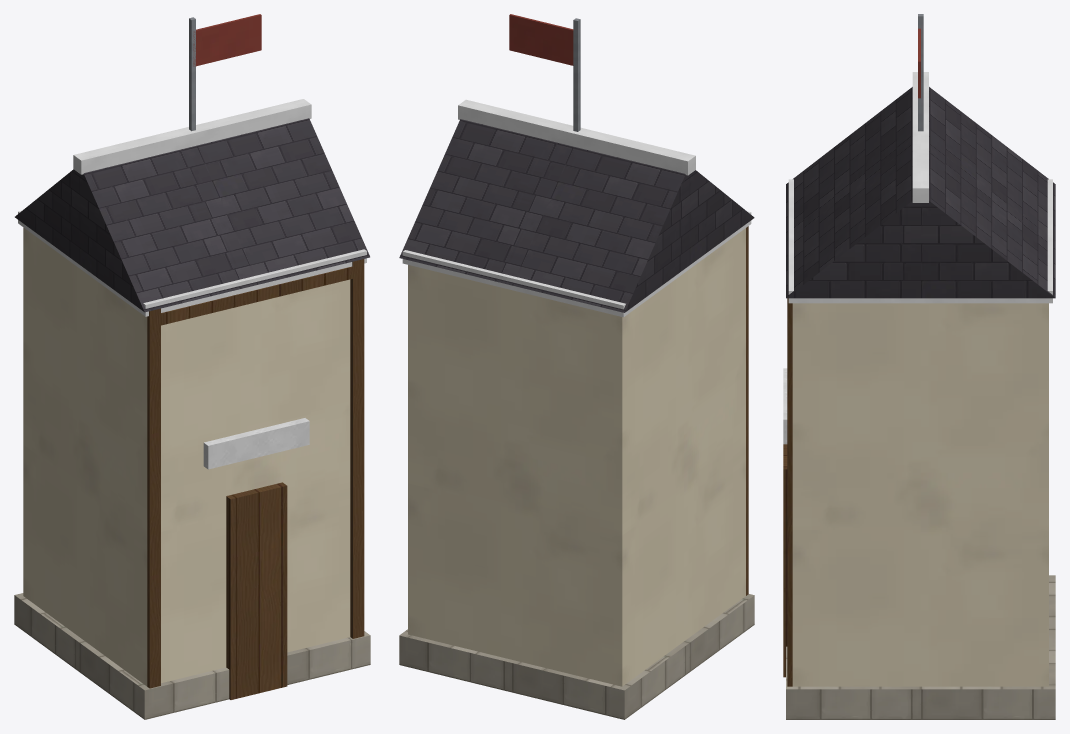
File: category.governance.t4.glb
The picture shows the model from 3 angles, left to right: view 1: azimuth 30°, elevation 25°; view 2: azimuth 150°, elevation 25°; view 3: azimuth 270°, elevation 25°; orthographic projection. The views are drawn at different scales.
Visible parts, largest first — view 1: building.category.governance.t4; view 2: building.category.governance.t4; view 3: building.category.governance.t4.
Boxes of the visible parts, box(x1,y1,x2,y2) form: building.category.governance.t4: box(14, 14, 370, 719); building.category.governance.t4: box(399, 14, 754, 719); building.category.governance.t4: box(783, 14, 1055, 719).
Bounding box in the file's own units: 2.04 × 5.3 × 2.02.
8 materials, 8 textured.
